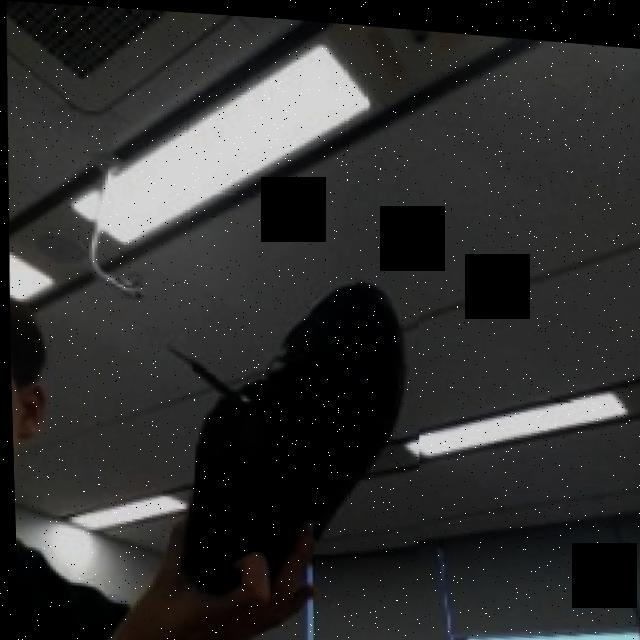shoe: (186, 238, 423, 557)
